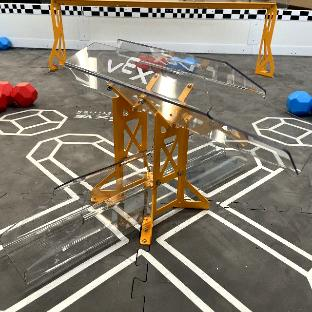Low_goal: (0, 150, 154, 286)
Med_goal: (66, 39, 310, 172)
V5_BLUE: (288, 91, 312, 116), (0, 37, 11, 49)
V5_RED: (0, 81, 37, 110)
